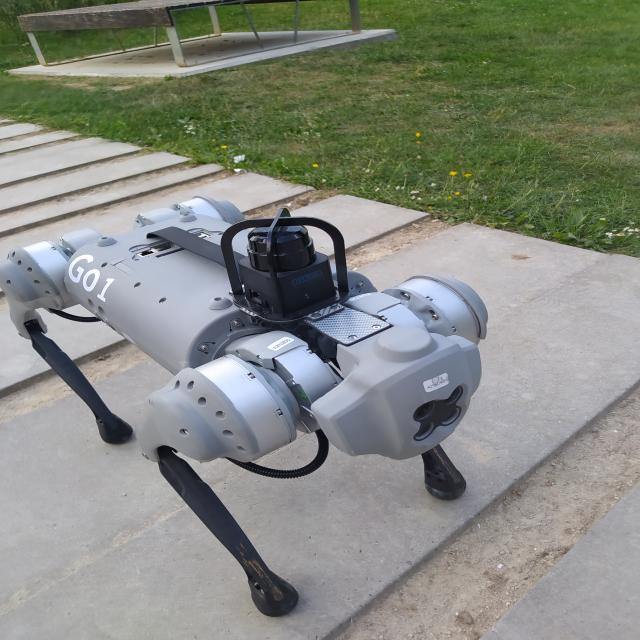unitree-go1-robot: (1, 175, 511, 626)
